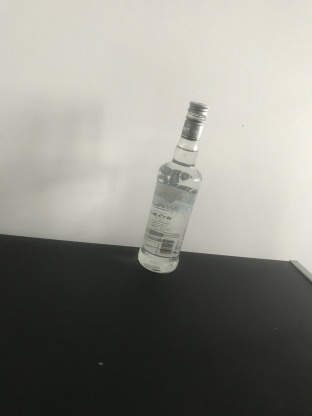nakretka: (179, 99, 210, 141)
